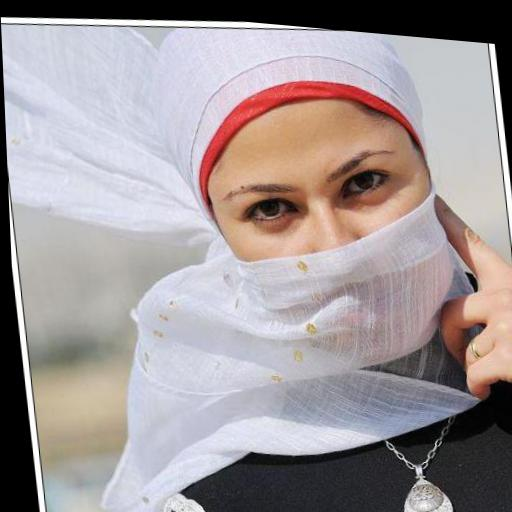WRONG: (214, 109, 448, 373)
